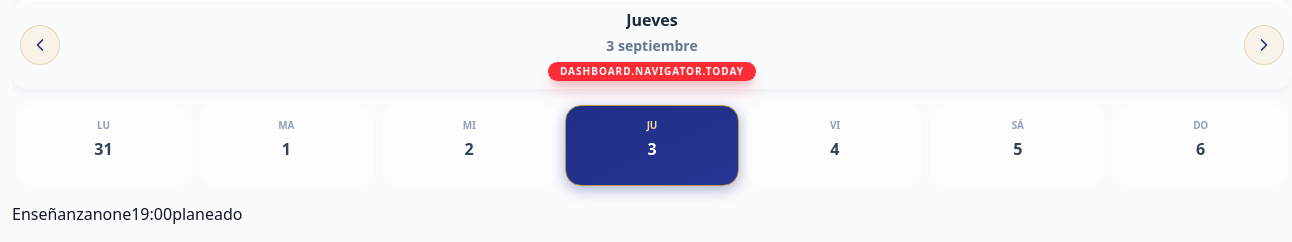
CultoNavigator › con el rango en caché, ir y volver no vuelve a pedir el día ya visto
Click the button with test id "dashboard-nav-next": (1264, 44) [1244,24,1284,64]
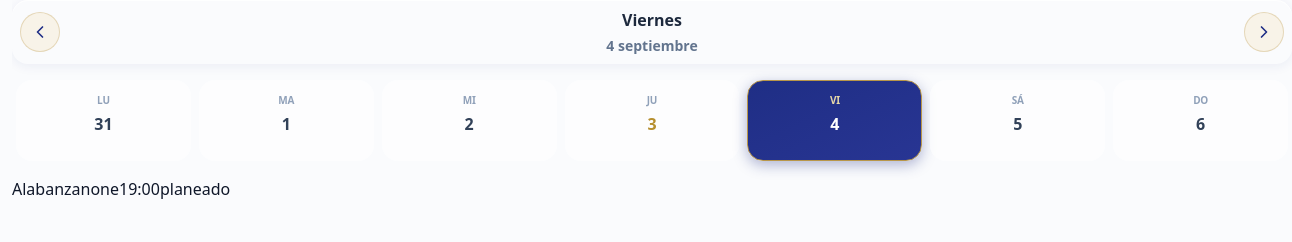
Expected: the text with test id "culto-nombre" reads "Alabanza", [12,178,80,200]
Click the button with test id "dashboard-nav-prev": (40, 32) [20,12,60,52]
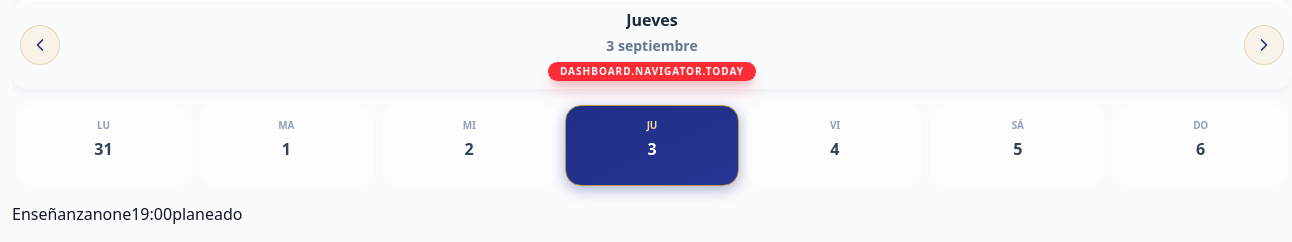
Expected: the text with test id "culto-nombre" reads "Enseñanza", [12,203,93,225]
